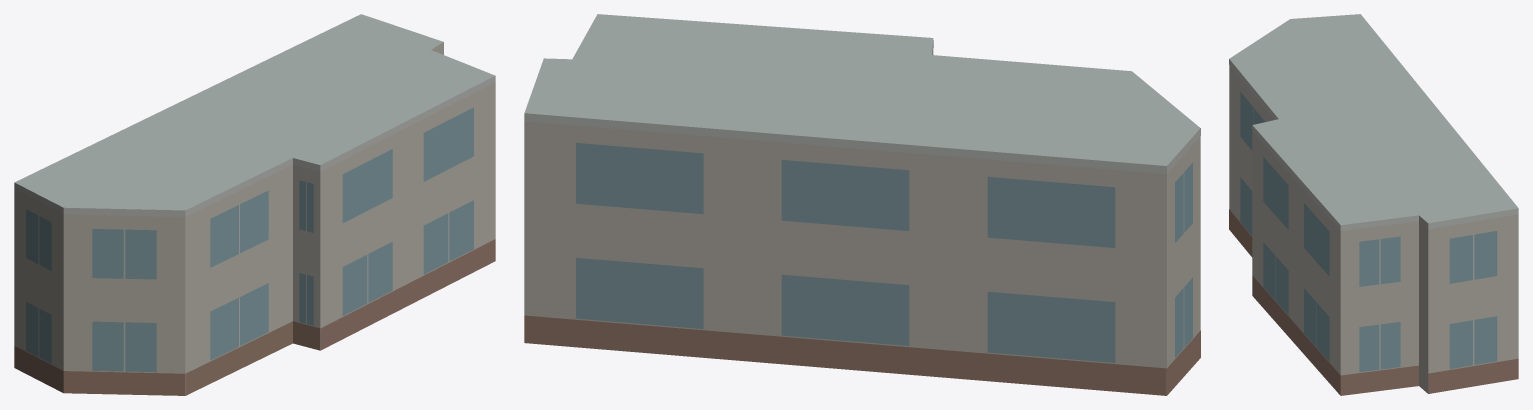
The model's file is survey-upis-32745862.glb.
3 renders of one model, left to right at view 1: azimuth 30°, elevation 25°; view 2: azimuth 150°, elevation 25°; view 3: azimuth 270°, elevation 25°, orthographic. The views are drawn at different scales.
Parts seen in each view (by area): view 1: survey-upis-32745862.tmp; view 2: survey-upis-32745862.tmp; view 3: survey-upis-32745862.tmp.
Part boxes in pixels (x1,y1,x2,y2): survey-upis-32745862.tmp: (14,14,495,395); survey-upis-32745862.tmp: (524,14,1200,395); survey-upis-32745862.tmp: (1229,14,1518,395).
Size of the model in its own units: 18.59 by 7 by 10.77.
